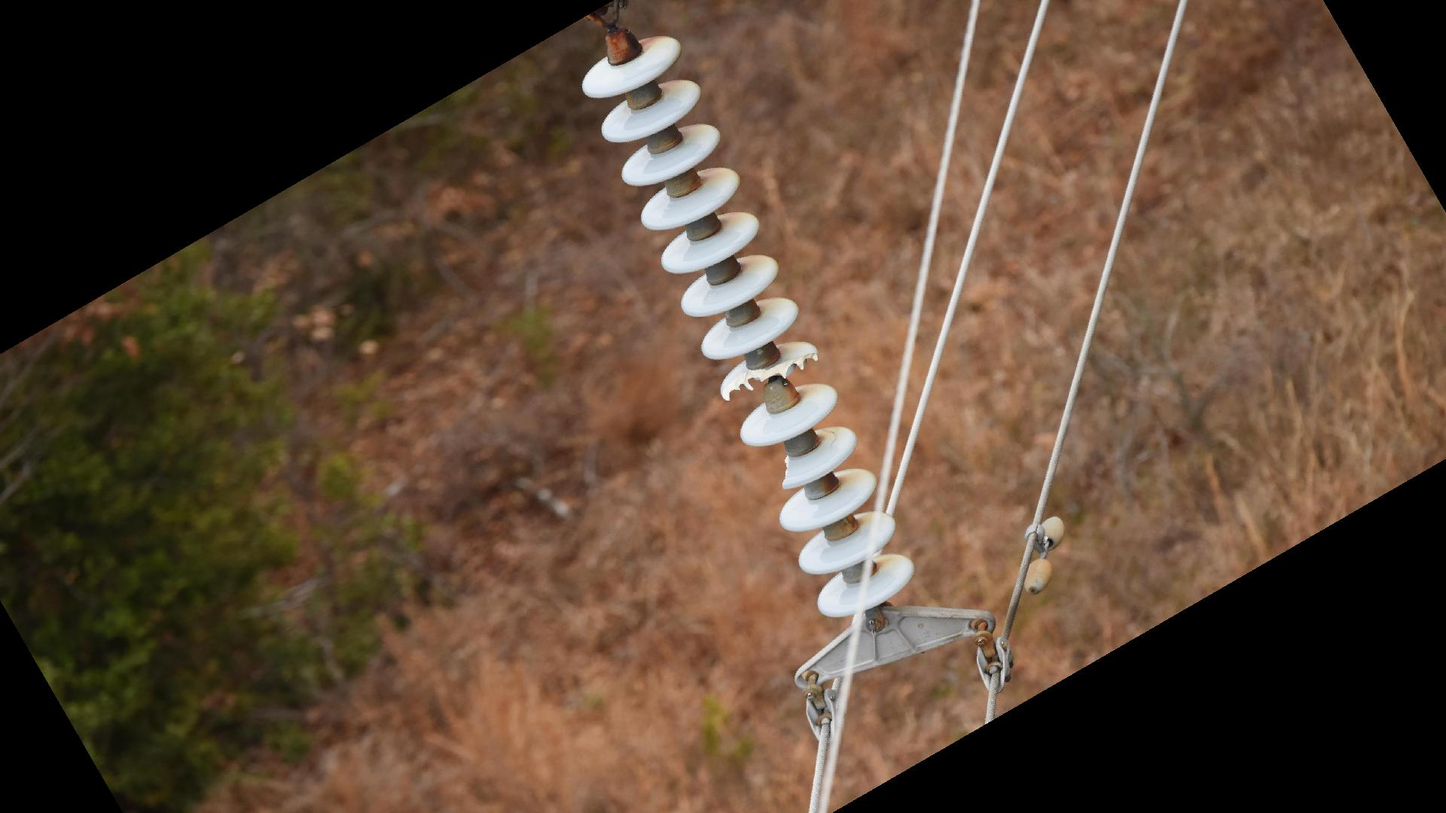insulator: (575, 31, 920, 623)
insulator_breakage: (715, 346, 821, 404)
